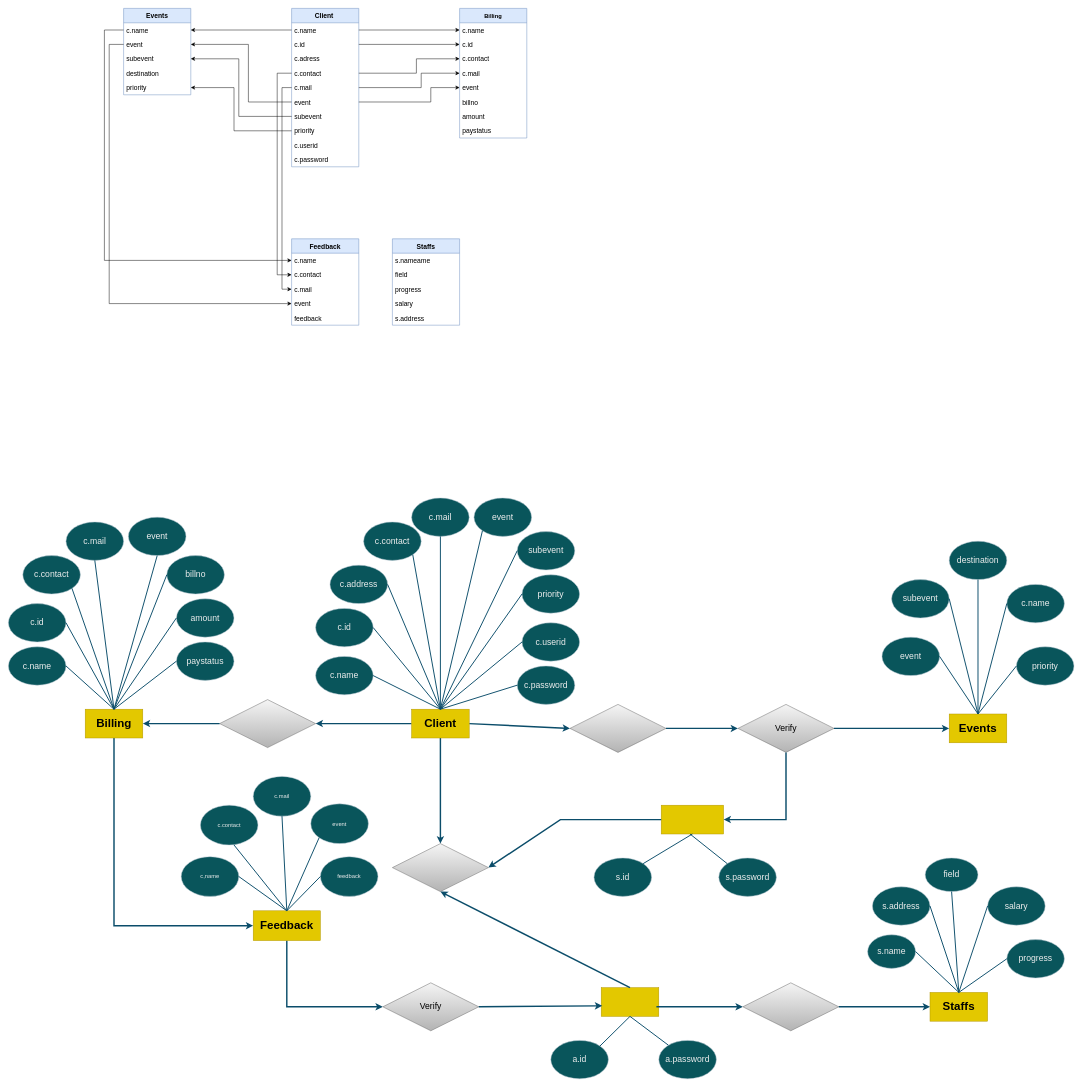
Some shapes in this 1082 by 1087 pixel diagram are drawn without their labels. The shapes that lost their labels are listed below. From the top down, each one's centre as x and y in pixels, then its label:
At pixel 267 723: "payment".
At pixel 618 728: "register".
At pixel 692 819: "Employee".
At pixel 440 867: "login".
At pixel 630 1001: "Admin".
At pixel 790 1006: "view".
